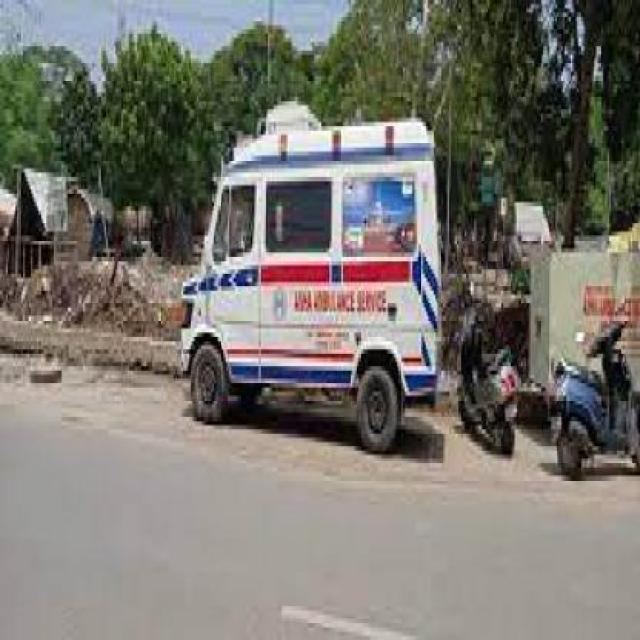Ambulance: (0, 361, 638, 638), (174, 108, 446, 454), (522, 245, 638, 428), (546, 355, 639, 480), (583, 317, 639, 460)
